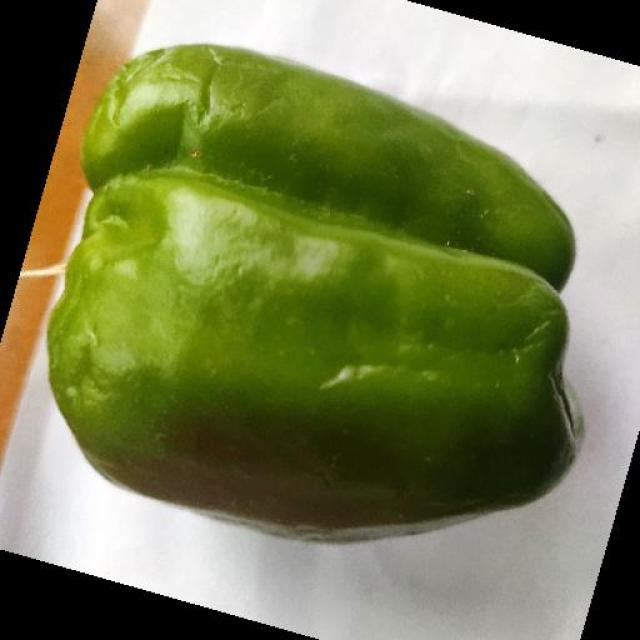Stale_Capsicum: (136, 64, 556, 506)
